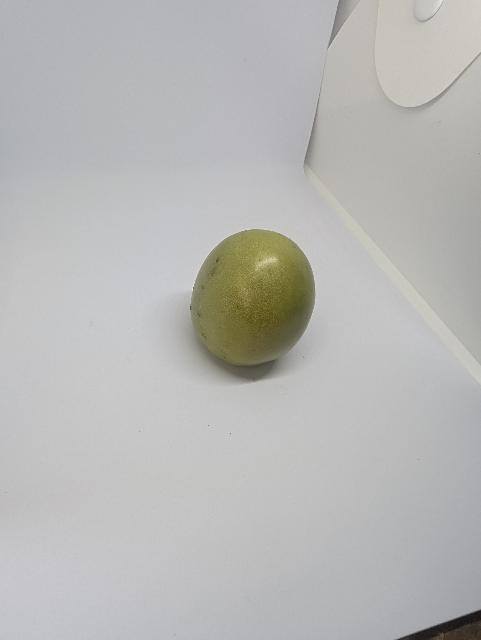green: (189, 228, 318, 369)
